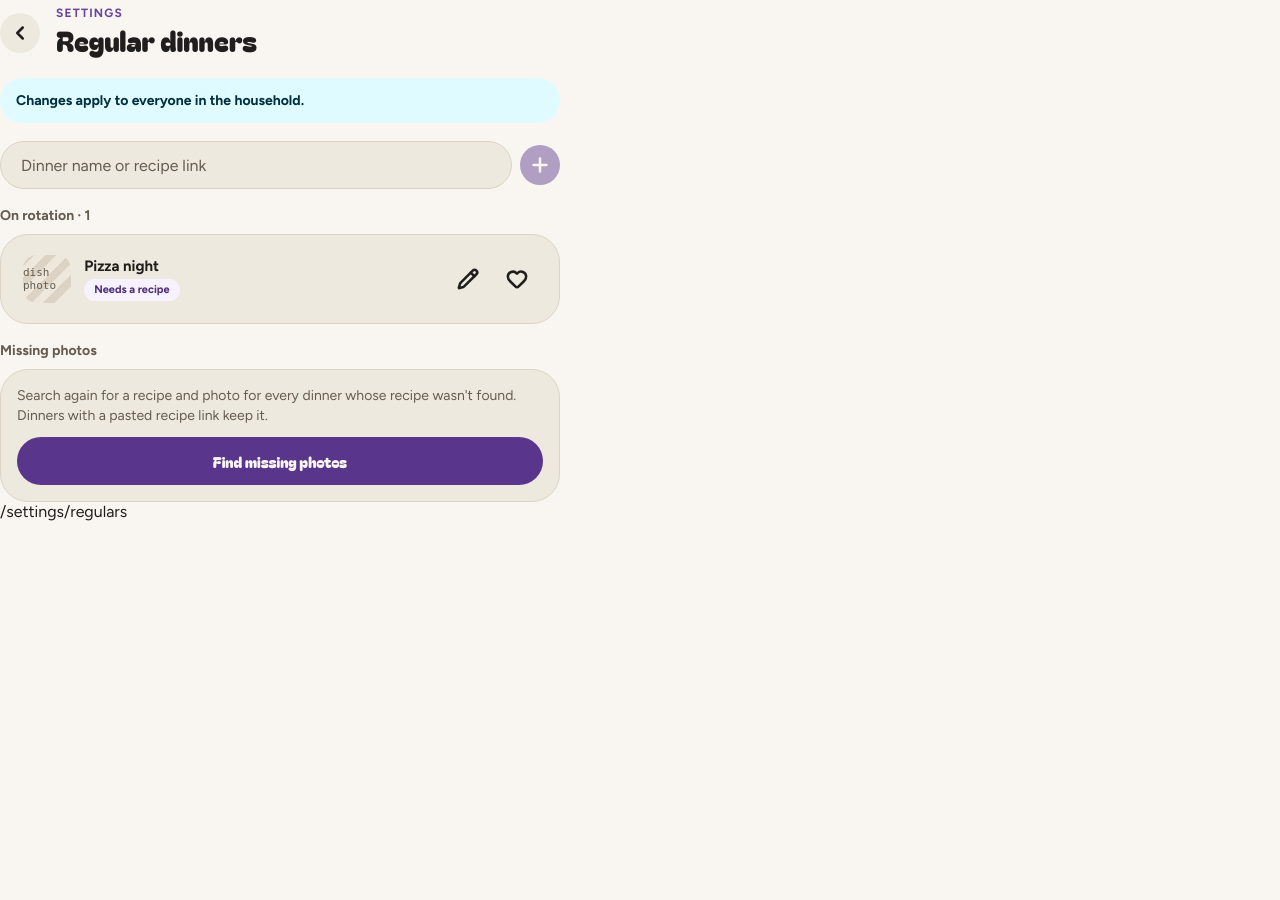
Test: RegularsSettingsPage › opens a Regular whose recipe was not found at its recipe too, and its pencil fixes the recipe
Expected: the heading "On rotation · 1" is shown, [0,207,90,224]
What coordinates should you click on to do the following:
click the button named "Fix recipe for Pizza night"
I would click on:
 (468, 279)
Its box is [446,257,490,301].
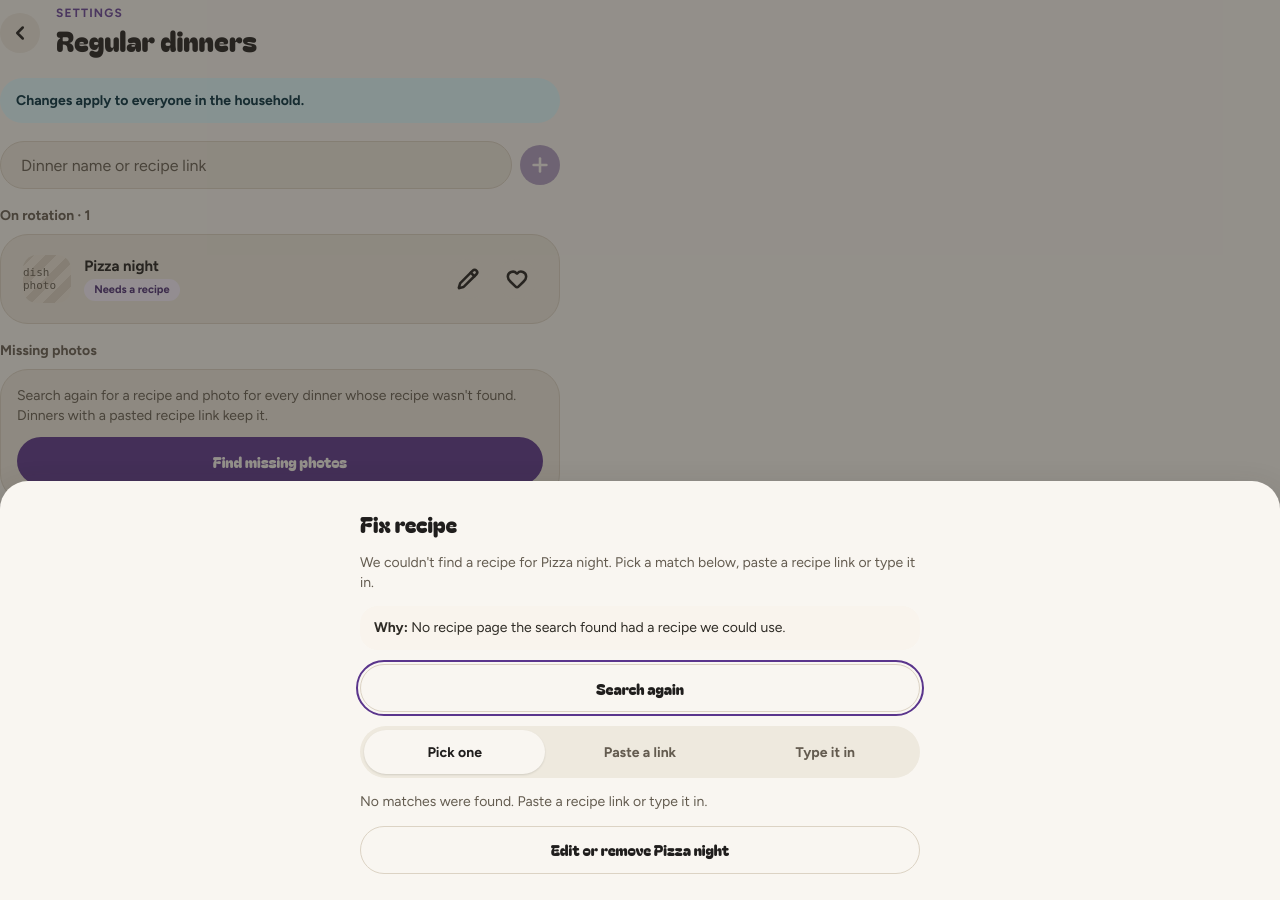
Expected: the text named "Path" reads "/settings/regulars", [0,502,127,521]
Result: the dialog "Fix recipe" is shown at [0,481,1279,899]
